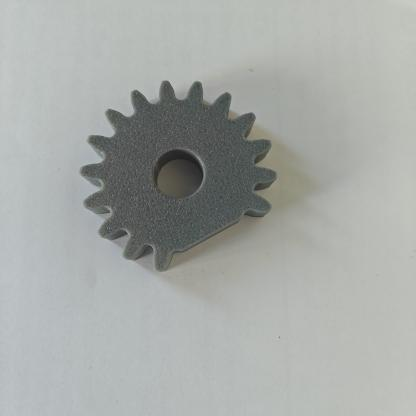defect: (142, 209, 282, 276)
gear: (67, 72, 289, 287)
